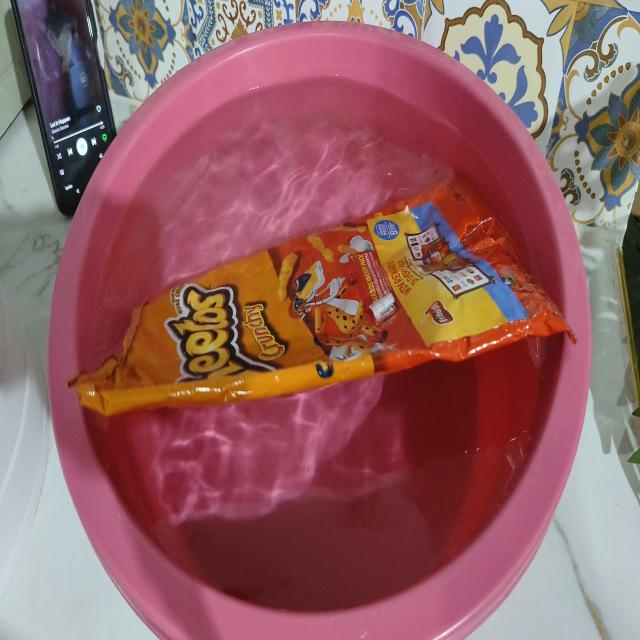Plastic Wrapper: (61, 142, 589, 514)
